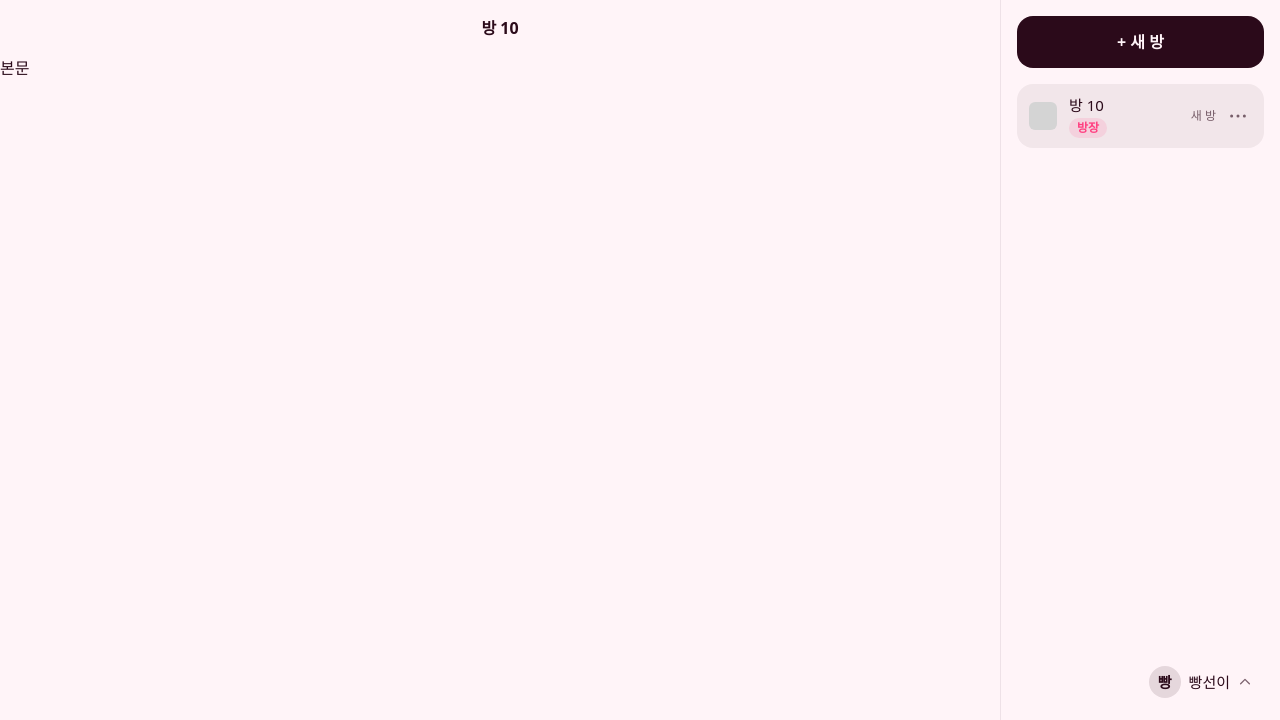
Test: ChatShell 설정 진입 (실제 Sidebar) › 개설자는 모드·AI 성격까지 본다
This screenshot has width=1280, height=720.
Click the button "빵 빵선이" at (1203, 682), box [1143,660,1264,704]
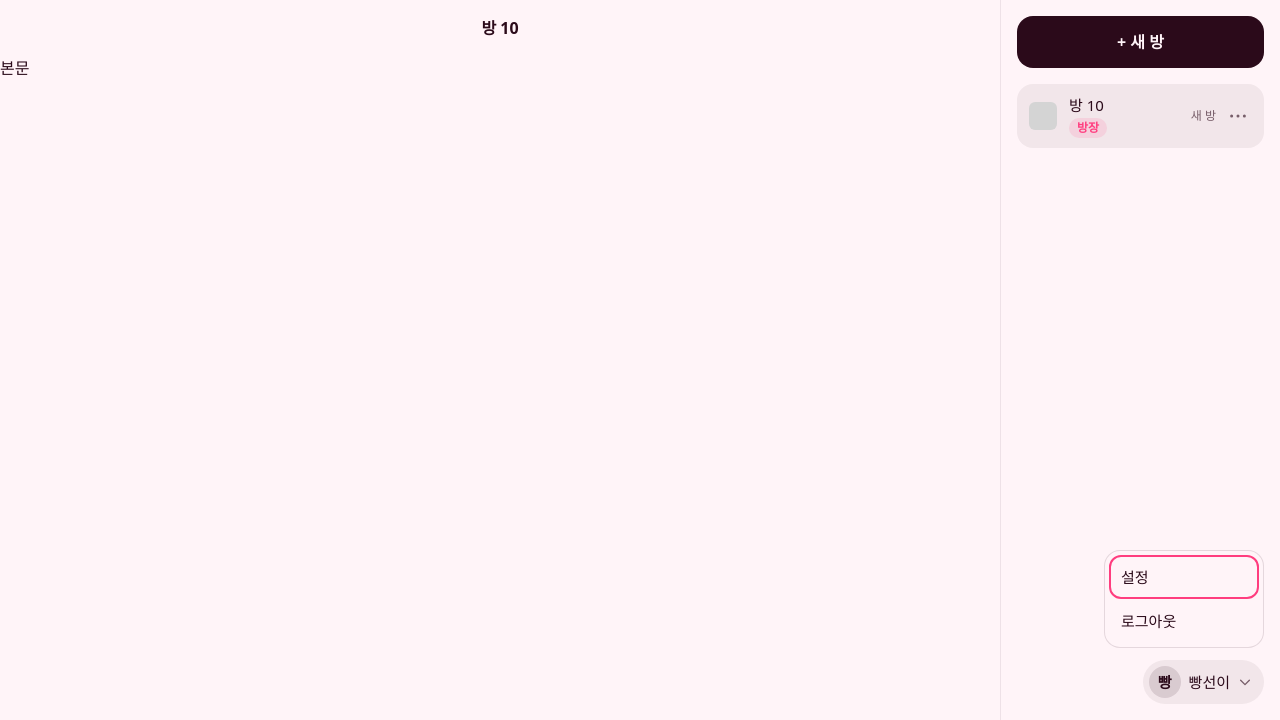
Click the menu item "설정" at (1184, 577), box [1109,555,1259,599]
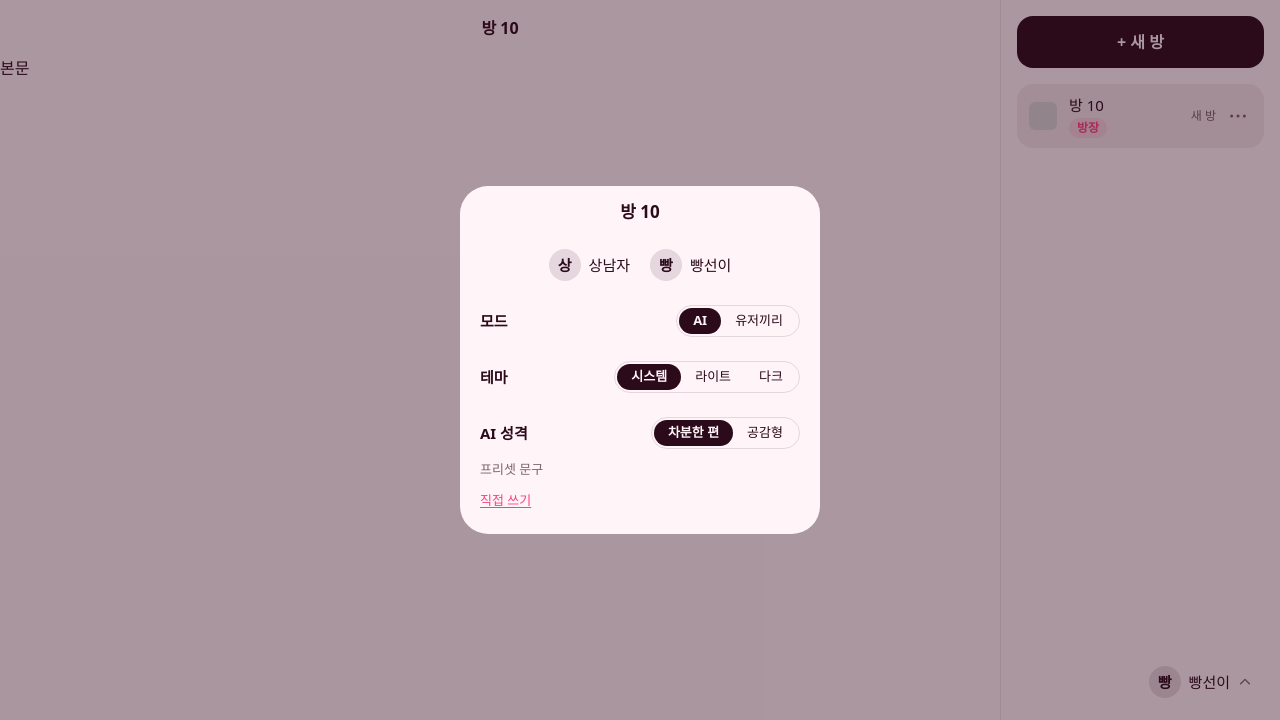
Expected: the dialog named "설정" is shown, [460,186,820,534]
Expected: the element named "모드" is shown, [676,305,800,337]
Expected: the element named "AI 성격" is shown, [651,417,800,449]
